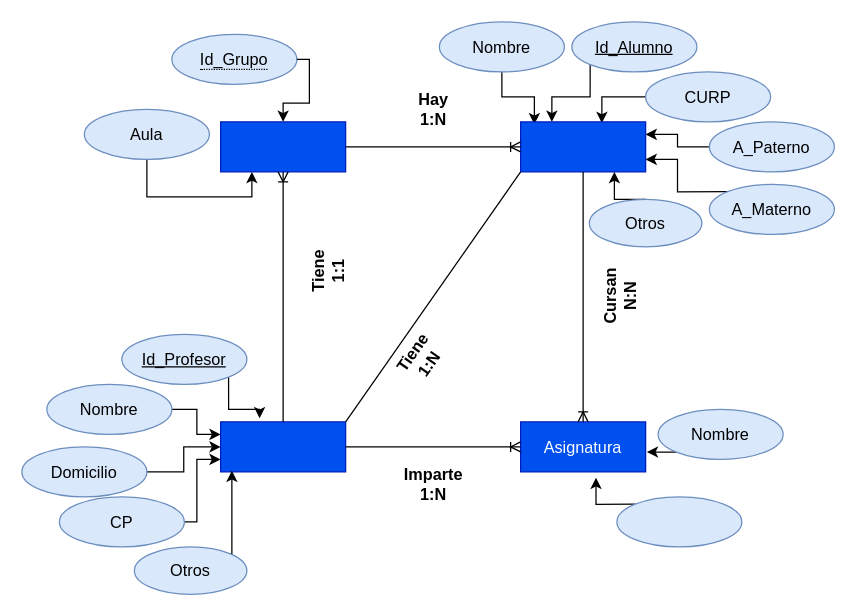
Image size: 856x616. Some labels were removed from this diagram. The shapes that lost their labels are listed below. From the top down, each one's box as (x1, y1, x2, y2) in pixels, then its label:
(219, 121, 346, 172): Grupo
(519, 121, 646, 172): Alumno
(219, 421, 346, 472): Profesor
(616, 496, 742, 547): Id_Asignatura
